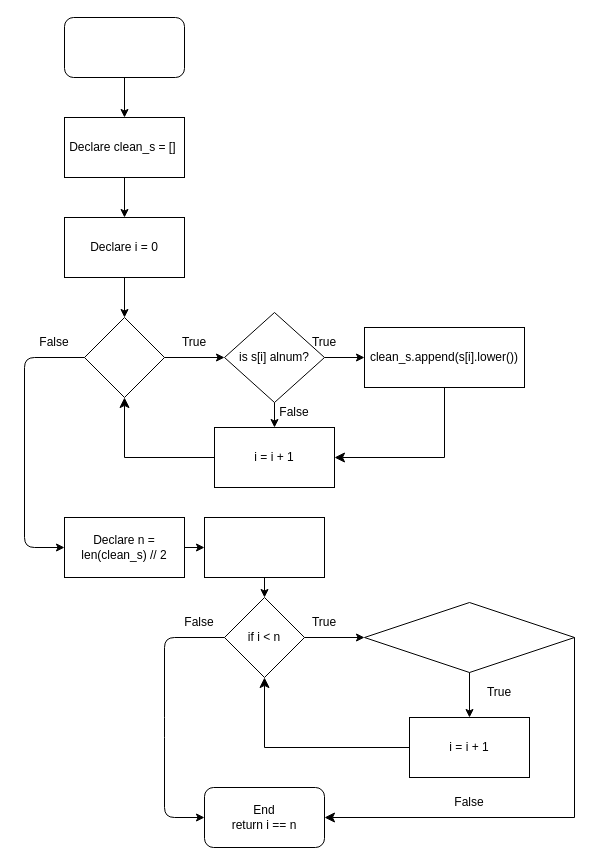
Some shapes in this 602 by 865 pixel diagram are drawn without their labels. Each missing label, with the centre of its shape:
"if clean_s[i] == clean_s[-1 - i]" goes at point (469, 637).
"if i < len(s)" goes at point (124, 357).
"Set i = 0" goes at point (264, 547).
"Start s: str" goes at point (124, 47).
